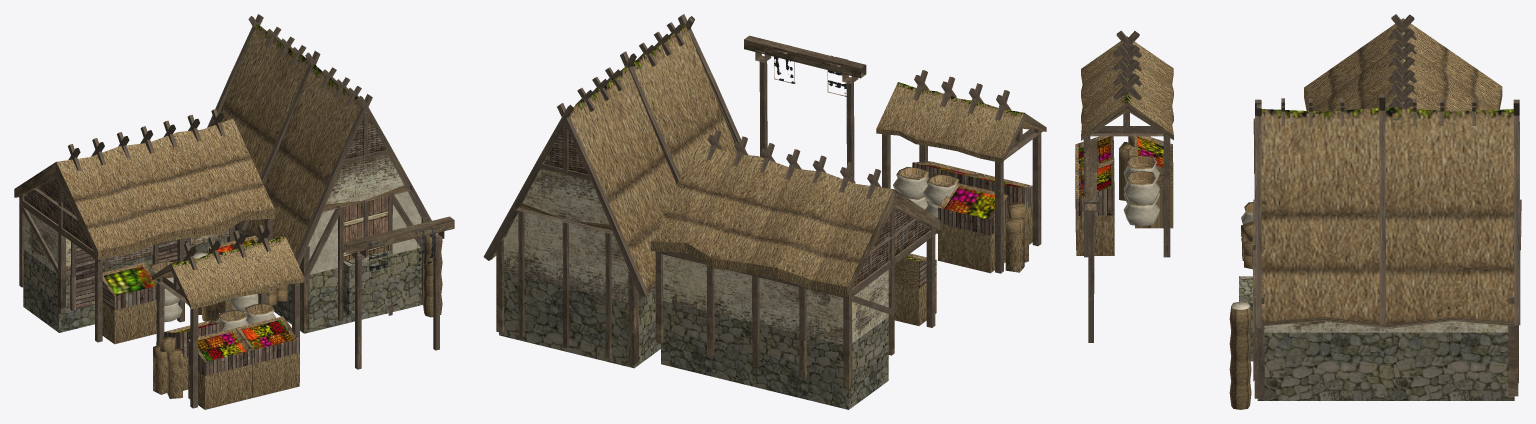
The model's file is market.dae.
3 views of the same model, side by side, from view 1: azimuth 30°, elevation 25°; view 2: azimuth 150°, elevation 25°; view 3: azimuth 270°, elevation 25° (orthographic). The views are drawn at different scales.
Visible parts, largest first — view 1: market; view 2: market; view 3: market.
Part boxes in pixels (x1,y1,x2,y2): market: (14, 14, 454, 409); market: (483, 14, 1046, 409); market: (1075, 14, 1521, 409).
Size of the model in its own units: 29.29 by 29.1 by 19.81.
